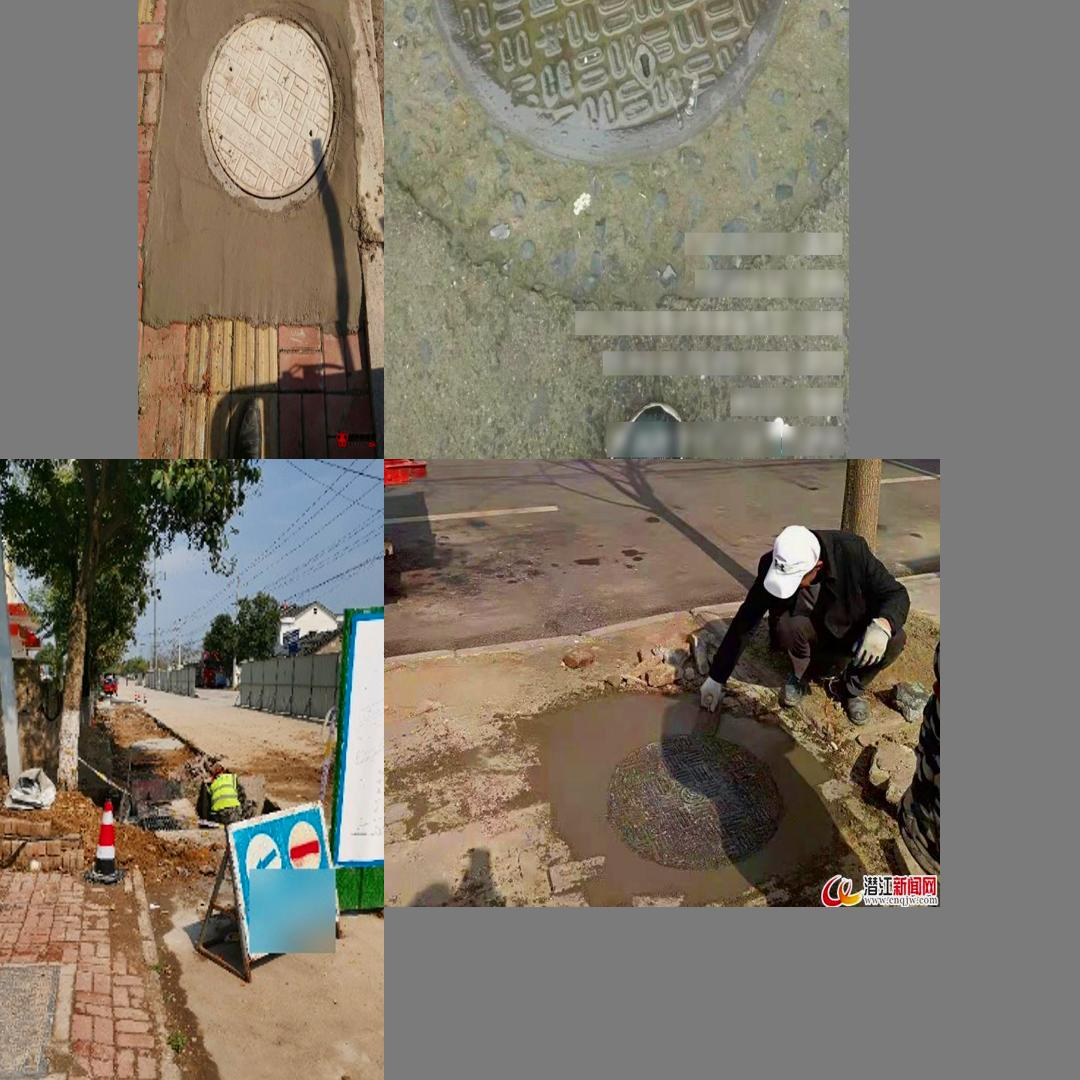good: (536, 689, 844, 897), (419, 0, 793, 169), (169, 0, 355, 308), (0, 958, 63, 1080)
